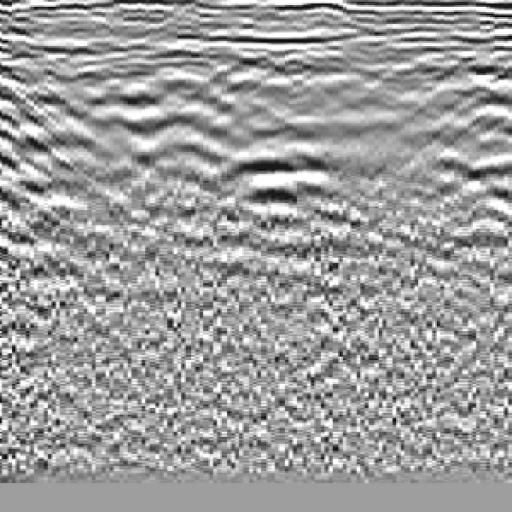metalic: (198, 111, 352, 258)
nonmetalic: (1, 30, 101, 254)
